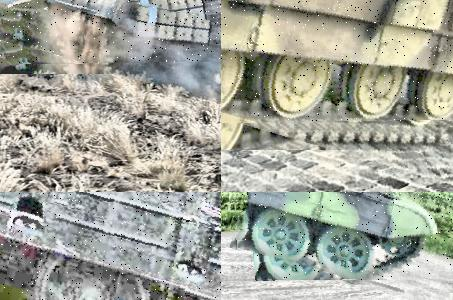tanks: (222, 1, 453, 122), (1, 193, 222, 300), (238, 193, 437, 281), (1, 1, 222, 64)
